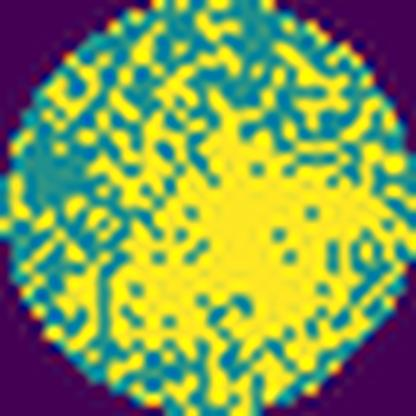Near-full: (22, 10, 415, 416)
